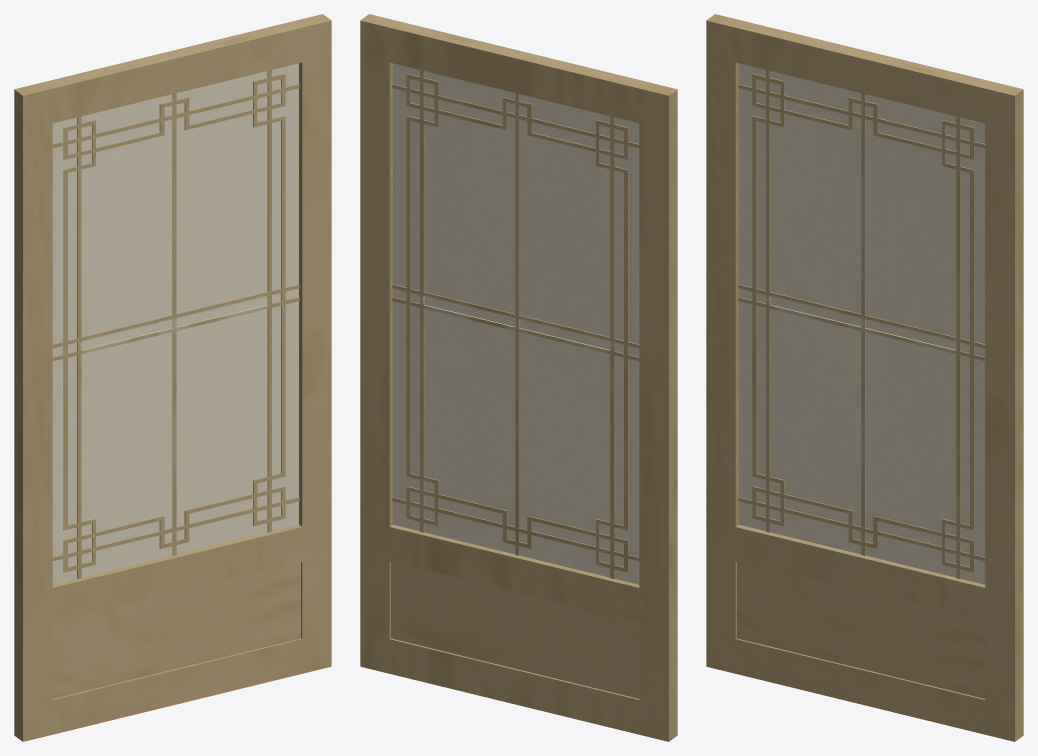
Rendered from partition.fbx.
3 views of the same model, side by side, from view 1: azimuth 30°, elevation 25°; view 2: azimuth 150°, elevation 25°; view 3: azimuth 330°, elevation 25° (orthographic).
Visible parts, largest first — view 1: partition; view 2: partition; view 3: partition.
Part boxes in pixels (box(x1,y1,x2,y2)): partition: box(14, 14, 331, 741); partition: box(360, 14, 677, 741); partition: box(706, 14, 1023, 741).
Size of the model in its own units: 100 by 200 by 5.
